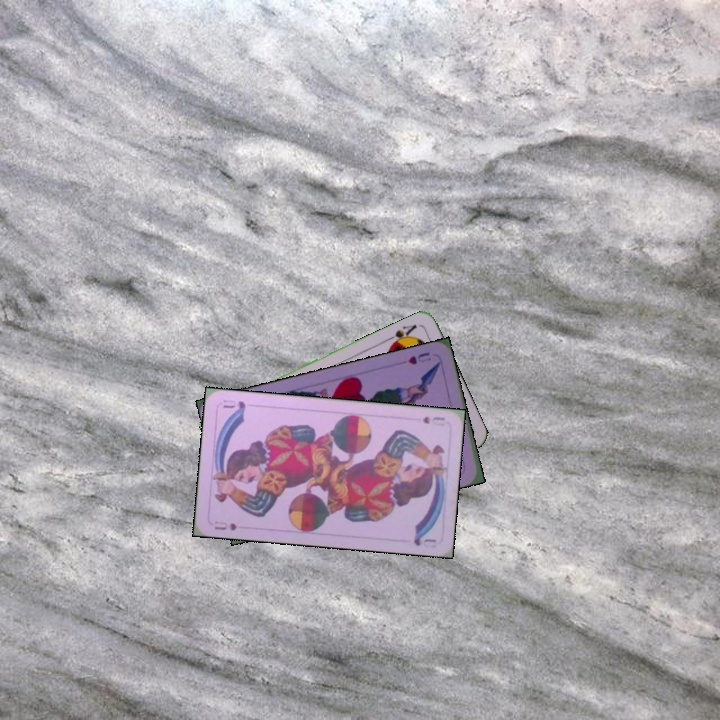HU: (404, 348, 434, 367)
SA: (383, 320, 420, 349)
SU: (210, 517, 240, 533), (419, 412, 447, 428)
